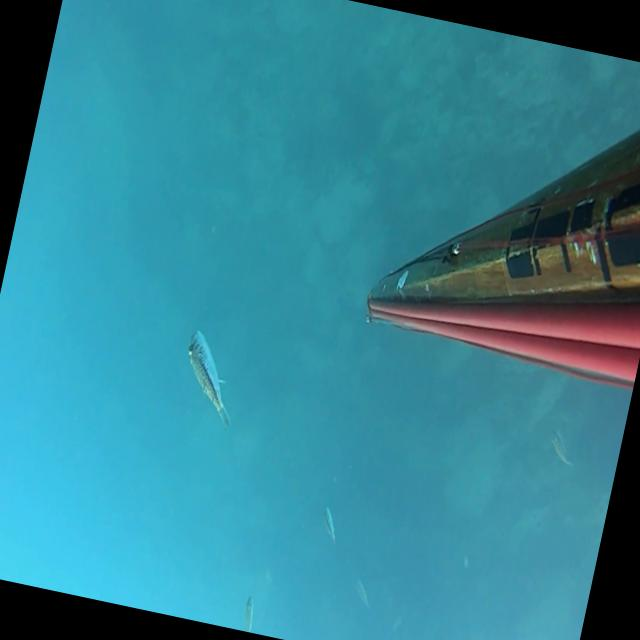Balon Baligi: (172, 327, 247, 428), (546, 428, 578, 465), (316, 504, 342, 544), (350, 576, 374, 608), (239, 594, 257, 632)
